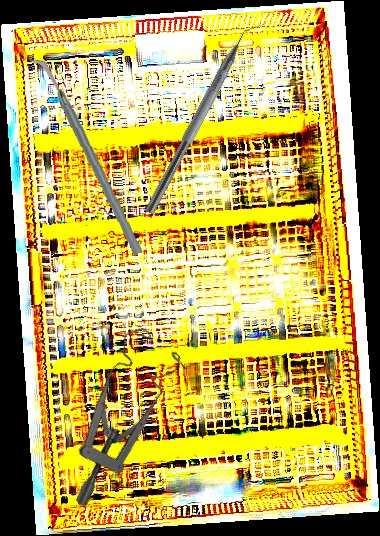Chopper: (144, 11, 269, 222), (27, 53, 145, 259)
Speculum: (14, 316, 214, 510)
